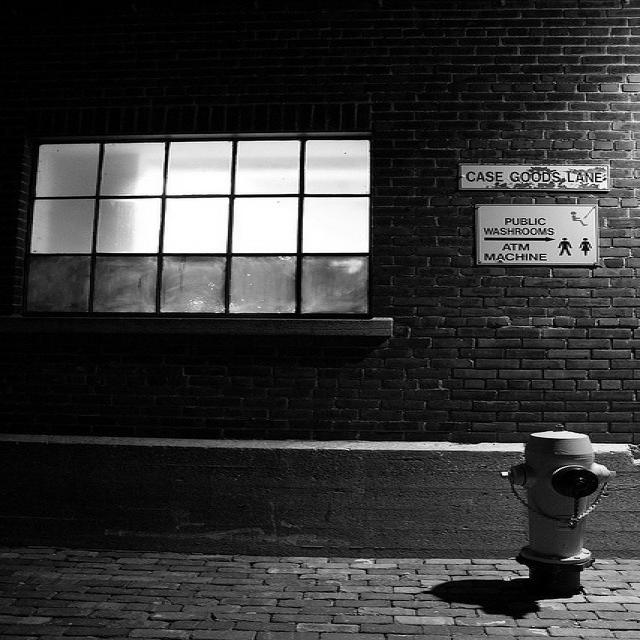fire_hydrant: (498, 422, 614, 597)
